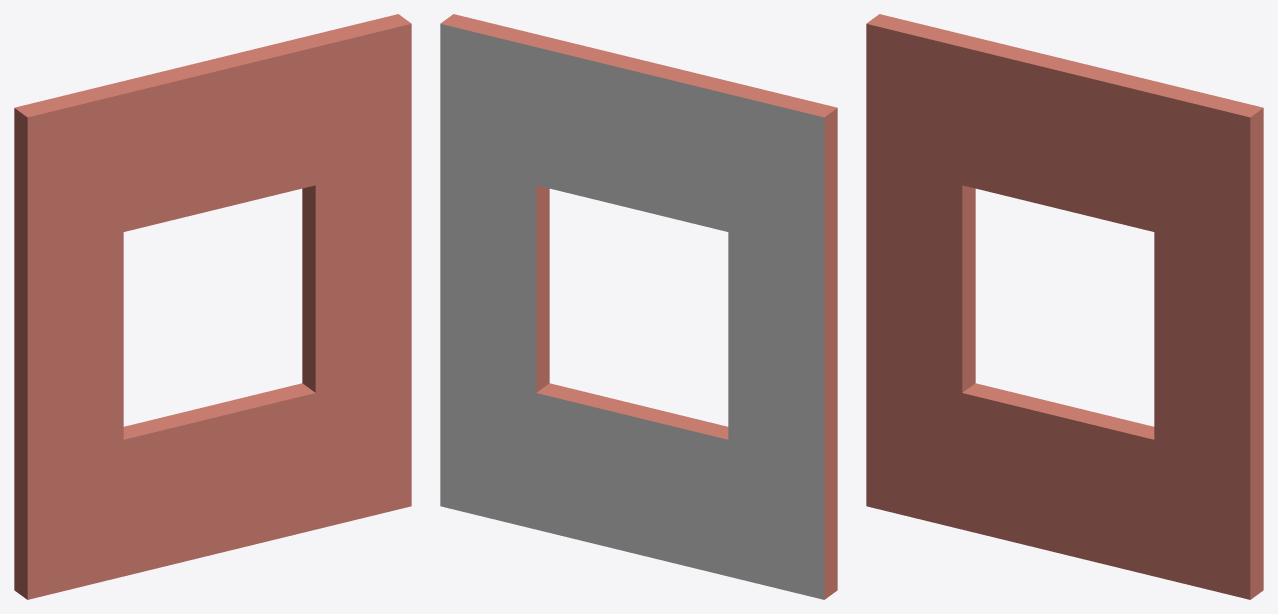
The model's file is Wall1_C6_04.fbx.
3 renders of one model, left to right at view 1: azimuth 30°, elevation 25°; view 2: azimuth 150°, elevation 25°; view 3: azimuth 330°, elevation 25°, orthographic.
Parts seen in each view (by area): view 1: Wall1_C6_04; view 2: Wall1_C6_04; view 3: Wall1_C6_04.
Boxes of the visible parts, left/top/right/bottom form: Wall1_C6_04: left=14, top=14, right=411, bottom=599; Wall1_C6_04: left=440, top=14, right=837, bottom=599; Wall1_C6_04: left=866, top=14, right=1263, bottom=599.
Size of the model in its own units: 250 by 300 by 15.
